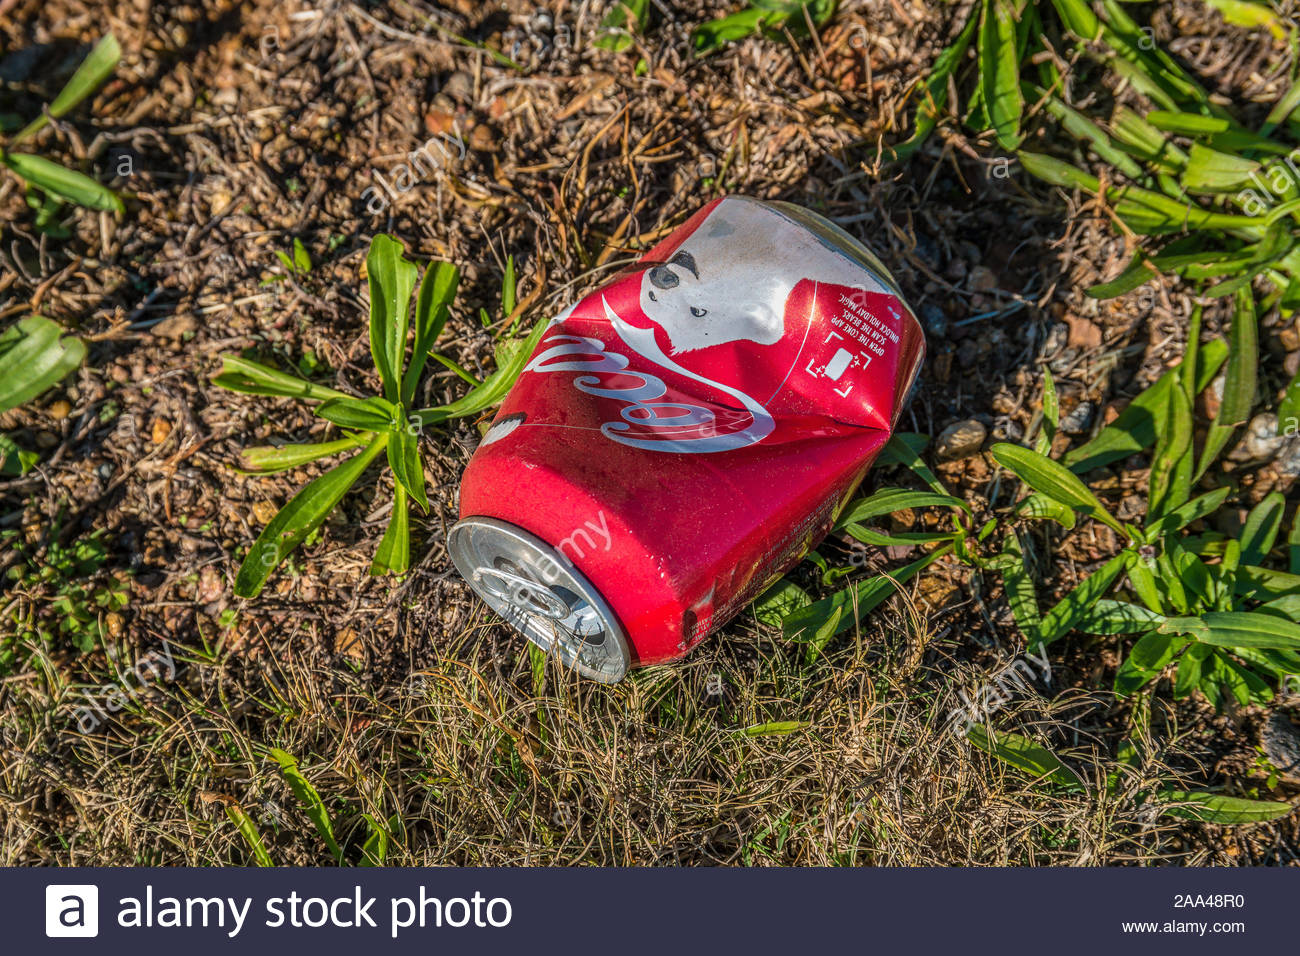can: (442, 188, 941, 691)
